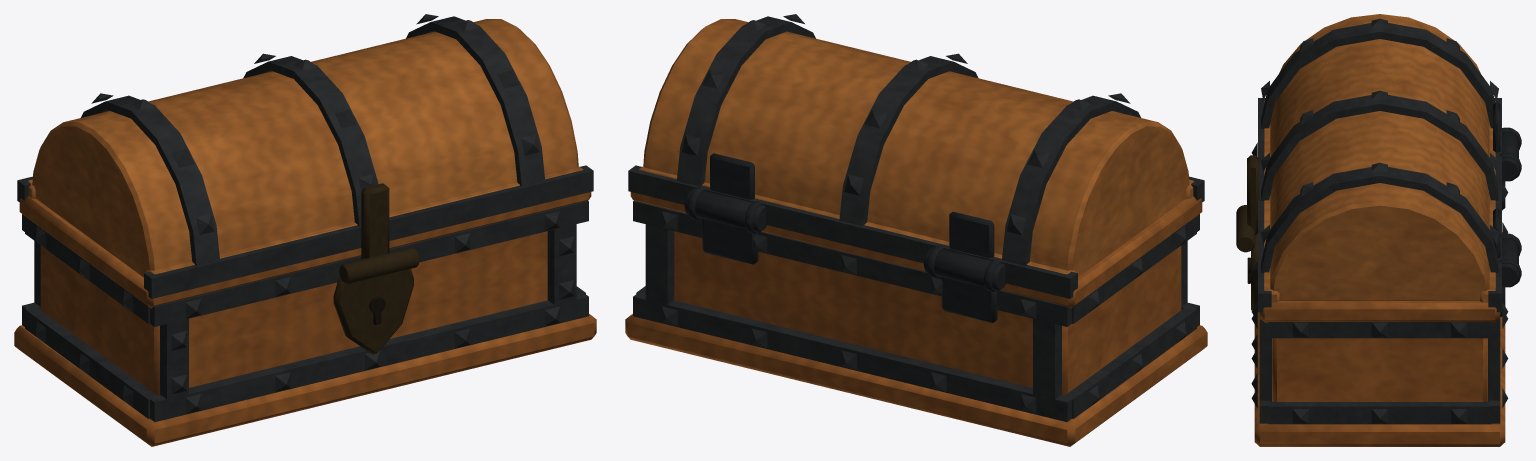
The picture shows the model from 3 angles, left to right: view 1: azimuth 30°, elevation 25°; view 2: azimuth 150°, elevation 25°; view 3: azimuth 270°, elevation 25°; orthographic projection. The views are drawn at different scales.
Parts seen in each view (by area): view 1: LP_02_Arched_Lid.001, LP_05_Metal_Trim_Rivets.001, LP_01_Body.001, LP_04_Front_Lock.001; view 2: LP_02_Arched_Lid.001, LP_05_Metal_Trim_Rivets.001, LP_01_Body.001, LP_03_Hinges_LR.001; view 3: LP_02_Arched_Lid.001, LP_05_Metal_Trim_Rivets.001, LP_01_Body.001, LP_03_Hinges_LR.001, LP_04_Front_Lock.001.
Part boxes in pixels (x1,y1,x2,y2): LP_02_Arched_Lid.001: (27,19,583,277); LP_05_Metal_Trim_Rivets.001: (17,14,593,421); LP_01_Body.001: (14,192,596,446); LP_04_Front_Lock.001: (333,183,419,354); LP_02_Arched_Lid.001: (638,19,1194,277); LP_05_Metal_Trim_Rivets.001: (628,14,1204,421); LP_01_Body.001: (625,192,1207,446); LP_03_Hinges_LR.001: (684,153,1005,322); LP_02_Arched_Lid.001: (1264,14,1495,302); LP_05_Metal_Trim_Rivets.001: (1251,18,1508,424); LP_01_Body.001: (1254,232,1505,446); LP_03_Hinges_LR.001: (1493,102,1521,316); LP_04_Front_Lock.001: (1236,155,1259,312).
Size of what is drawn, in the model's own units: 1.57 by 0.9437 by 0.9415.
Materials: 1 (1 with a texture image).
